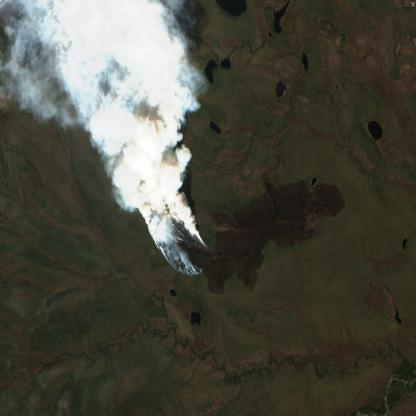fire: (138, 186, 209, 280)
